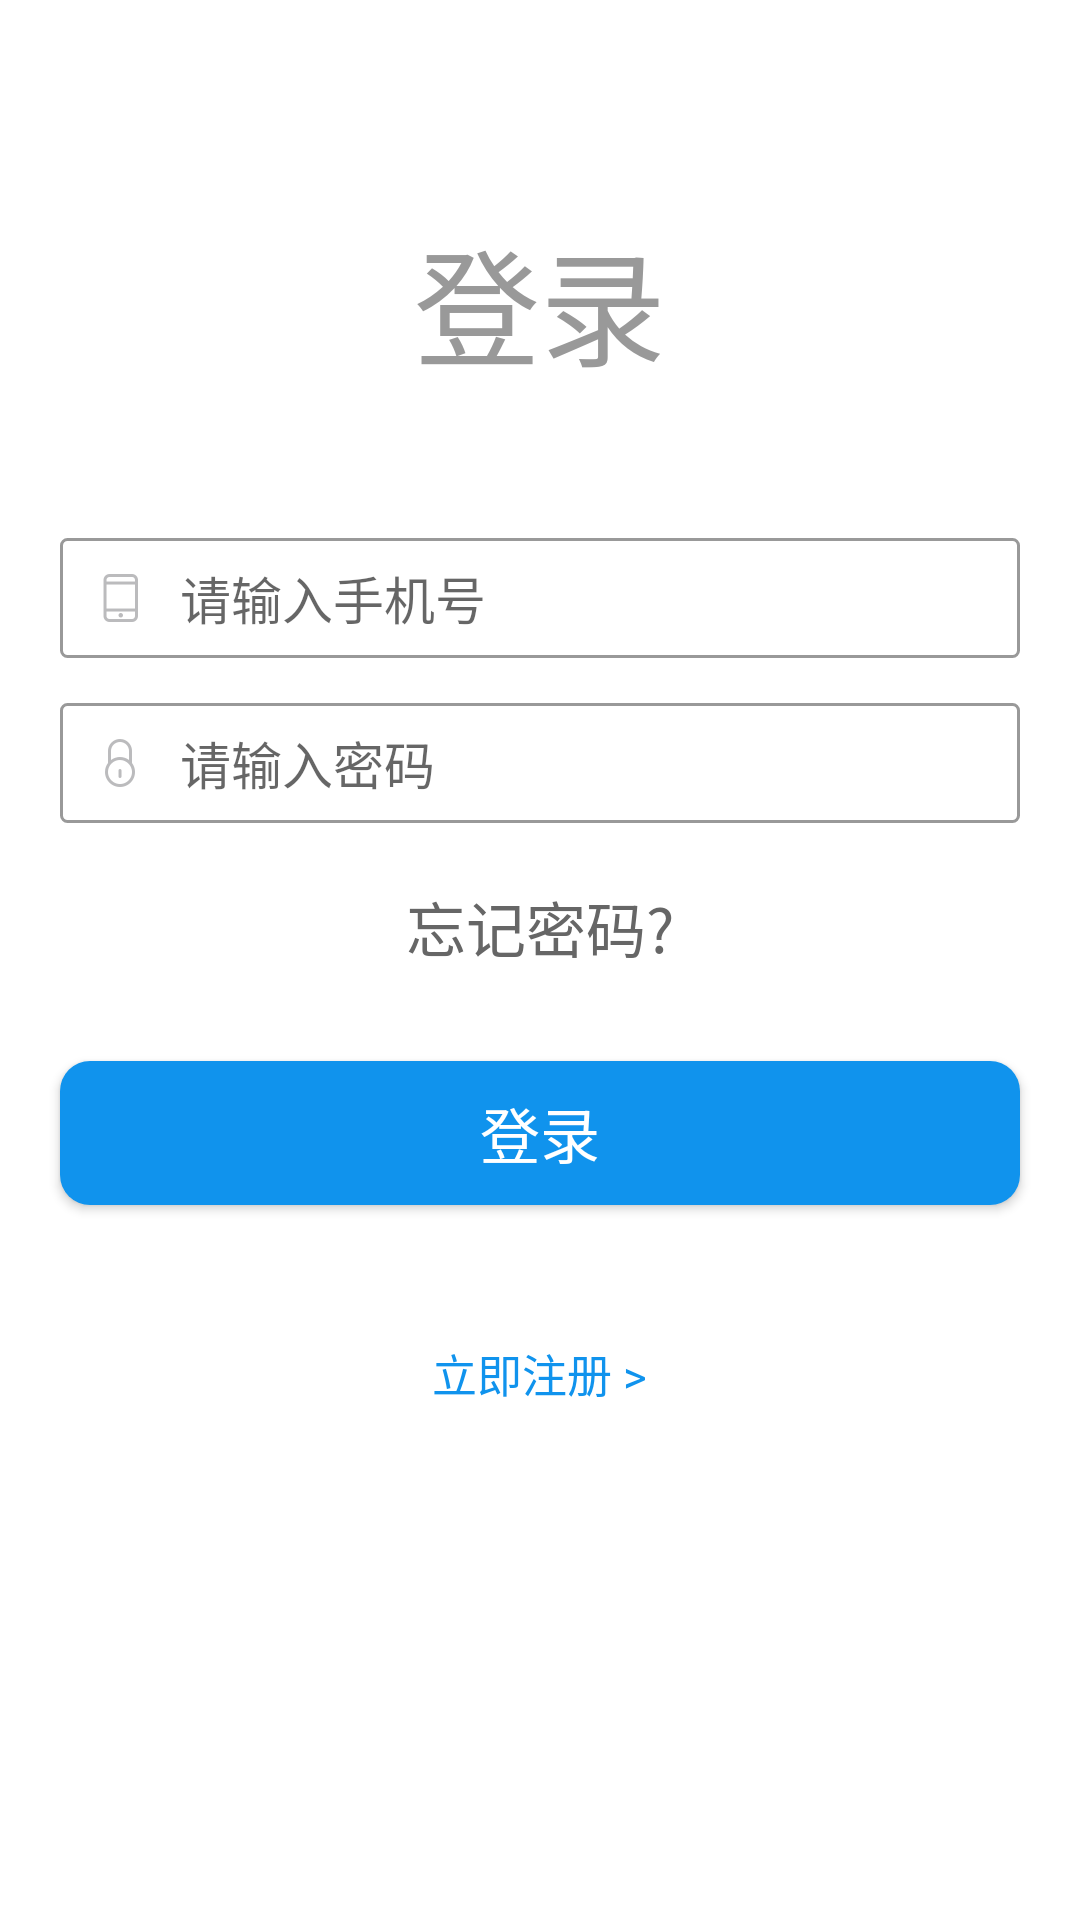

Icon bounding boxes for this 1080x1920 phone screenshot, format bbox=(x1, y1, x2, y2):
login password: bbox=(105, 739, 135, 787)
login phone: bbox=(103, 574, 138, 622)
